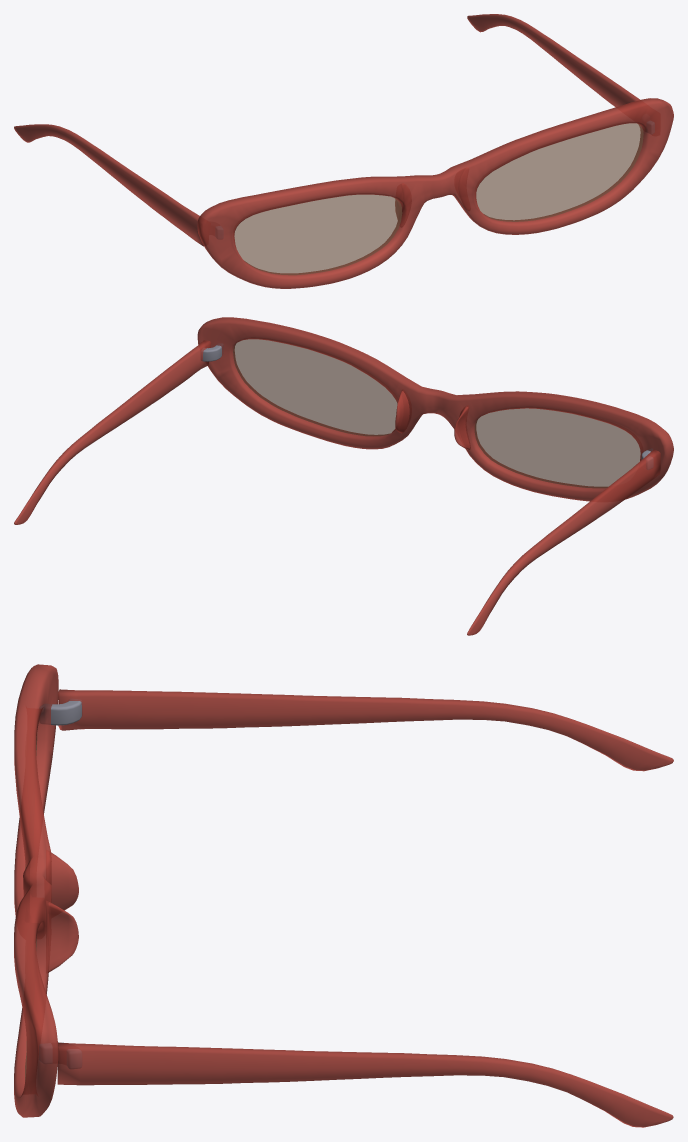
File: cherry.glb
3 views of the same model, one above another, from view 1: azimuth 30°, elevation 25°; view 2: azimuth 150°, elevation 25°; view 3: azimuth 270°, elevation 25° (orthographic). The views are drawn at different scales.
Parts seen in each view (by area): view 1: model_7.001; view 2: model_7.001; view 3: model_7.001.
Part boxes in pixels (bbox=[...]): model_7.001: bbox=[14, 14, 673, 288]; model_7.001: bbox=[14, 317, 673, 635]; model_7.001: bbox=[14, 664, 673, 1127].
Bounding box in the file's own units: 2.24 × 0.4582 × 1.68.
